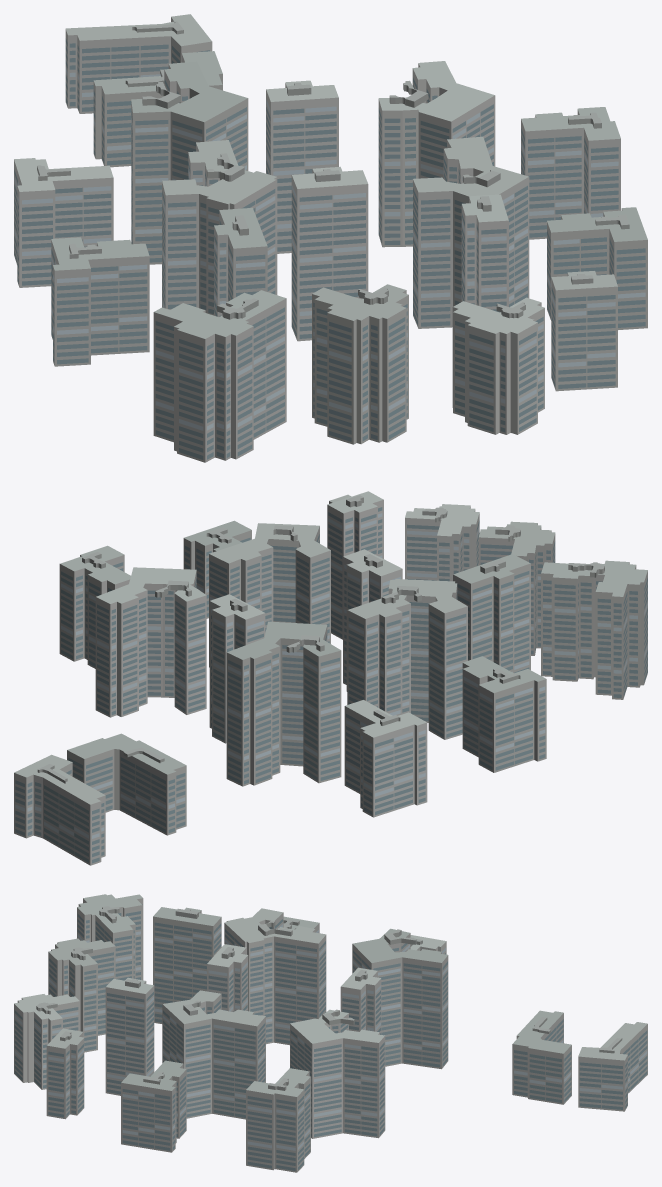
File: apt-a10027906.glb
3 views of the same model, one above another, from view 1: azimuth 30°, elevation 25°; view 2: azimuth 150°, elevation 25°; view 3: azimuth 270°, elevation 25° (orthographic). The views are drawn at different scales.
Parts seen in each view (by area): view 1: apt-a10027906; view 2: apt-a10027906; view 3: apt-a10027906.
Boxes of the visible parts, left/top/right/bottom form: apt-a10027906: left=14, top=14, right=647, bottom=462; apt-a10027906: left=14, top=491, right=647, bottom=865; apt-a10027906: left=14, top=894, right=647, bottom=1172.
Bounding box in the file's own units: 225 × 60 × 312.
